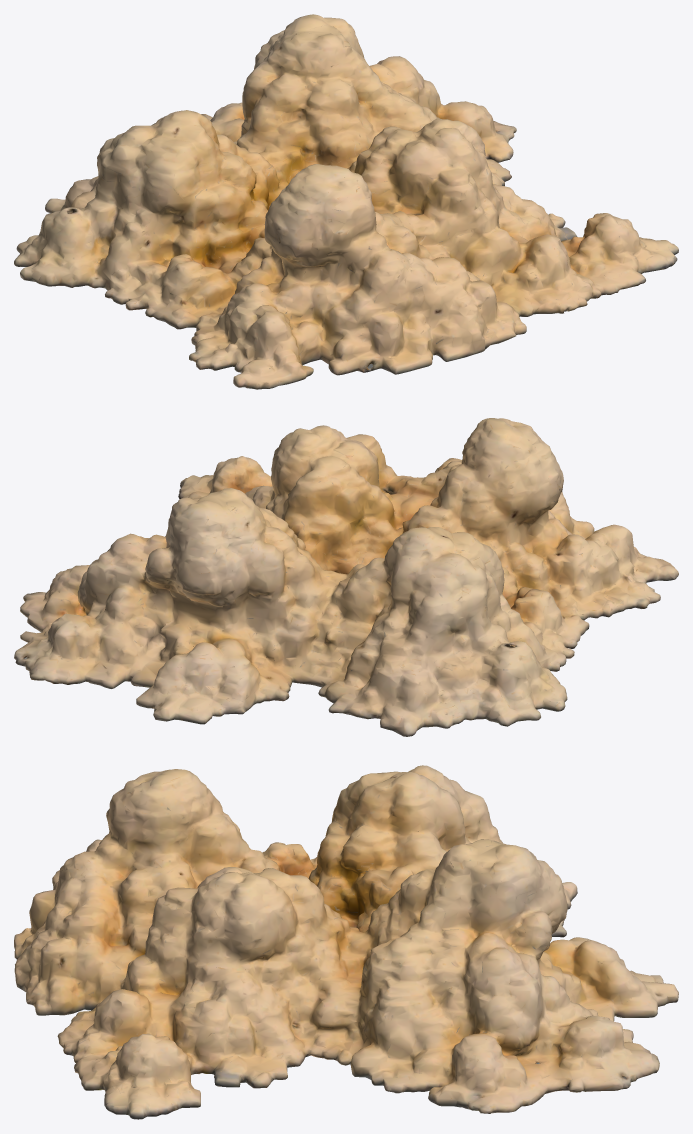
Rendered from cloud_001.glb.
The picture shows the model from 3 angles, top to bottom: view 1: azimuth 30°, elevation 25°; view 2: azimuth 150°, elevation 25°; view 3: azimuth 270°, elevation 25°; orthographic projection. The views are drawn at different scales.
Visible parts, largest first — view 1: Mesh1.0; view 2: Mesh1.0; view 3: Mesh1.0.
Part boxes in pixels (x1,y1,x2,y2): Mesh1.0: (14, 14, 678, 389); Mesh1.0: (14, 418, 678, 736); Mesh1.0: (14, 765, 678, 1119).
Size of the model in its own units: 68.89 by 20 by 70.11.
Materials: 1 (1 with a texture image).
